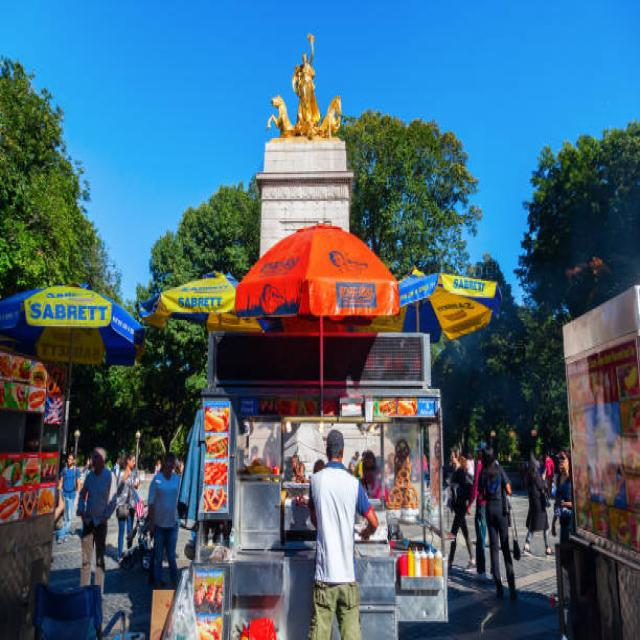Emperan: (133, 217, 508, 640)
